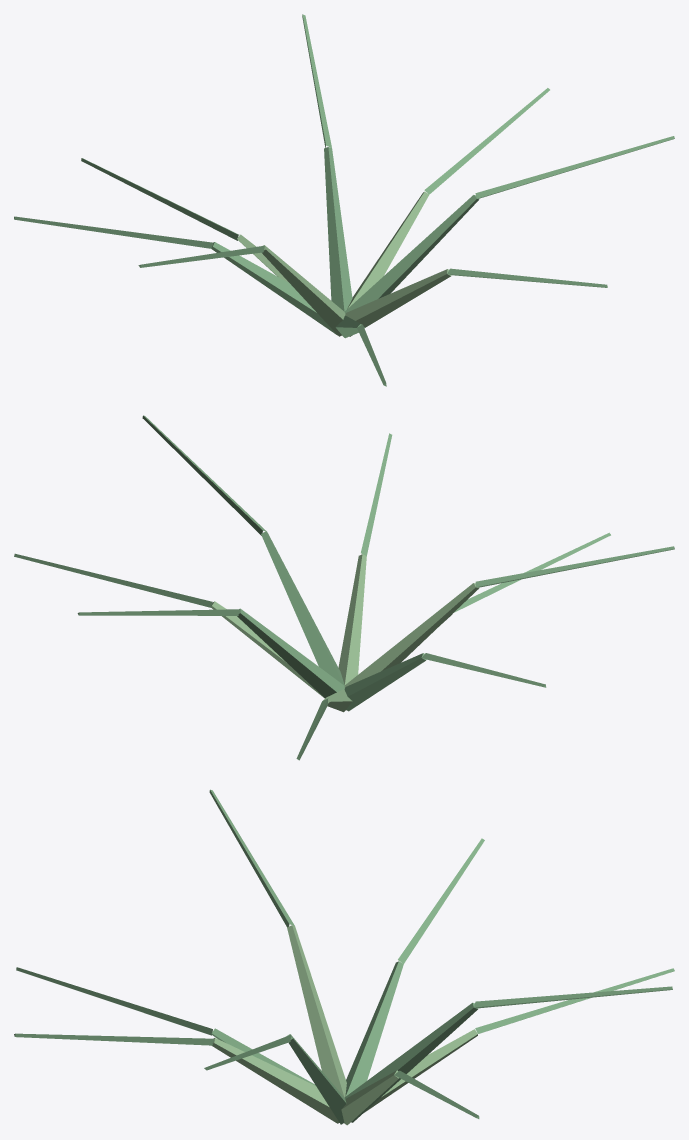
File: fern_v19.glb
3 views of the same model, one above another, from view 1: azimuth 30°, elevation 25°; view 2: azimuth 150°, elevation 25°; view 3: azimuth 270°, elevation 25° (orthographic). The views are drawn at different scales.
Visible parts, largest first — view 1: lod0; view 2: lod0; view 3: lod0.
Part boxes in pixels (x1,y1,x2,y2): lod0: (14, 14, 674, 386); lod0: (14, 415, 674, 760); lod0: (14, 789, 674, 1125).
Size of what is drawn, in the model's own units: 1.82 by 0.5939 by 1.82.
